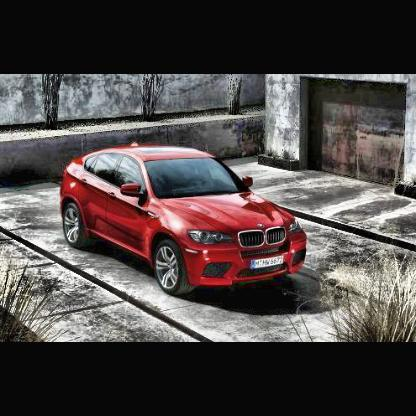BMW X6 SUV 2012: (61, 143, 310, 298)
